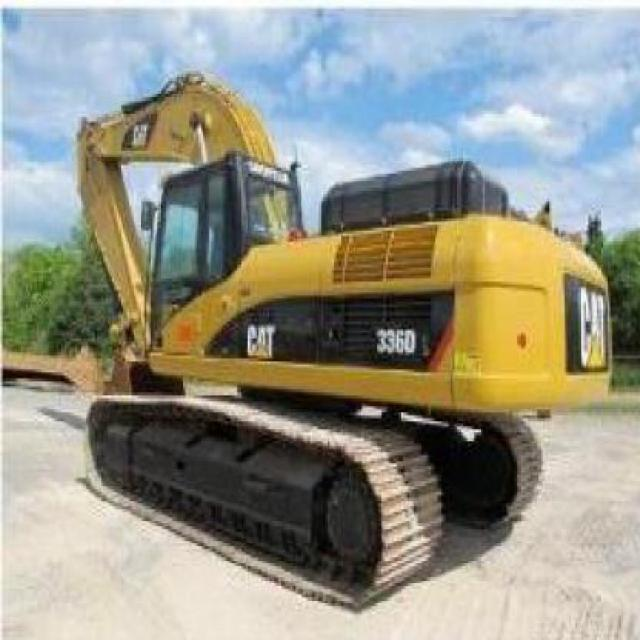Excavator: (68, 45, 621, 621)
